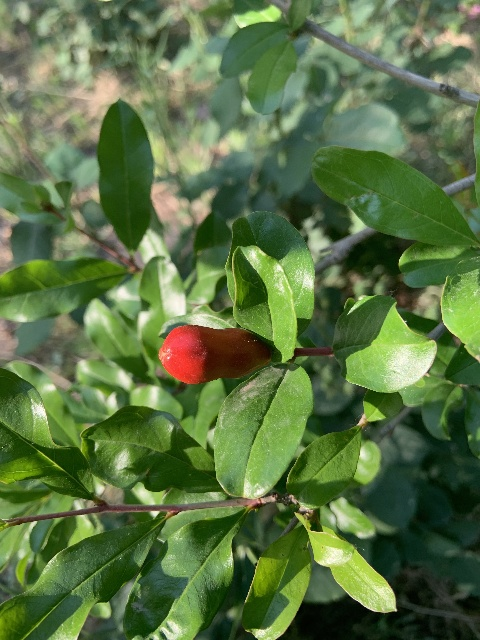bud: (158, 323, 271, 385)
